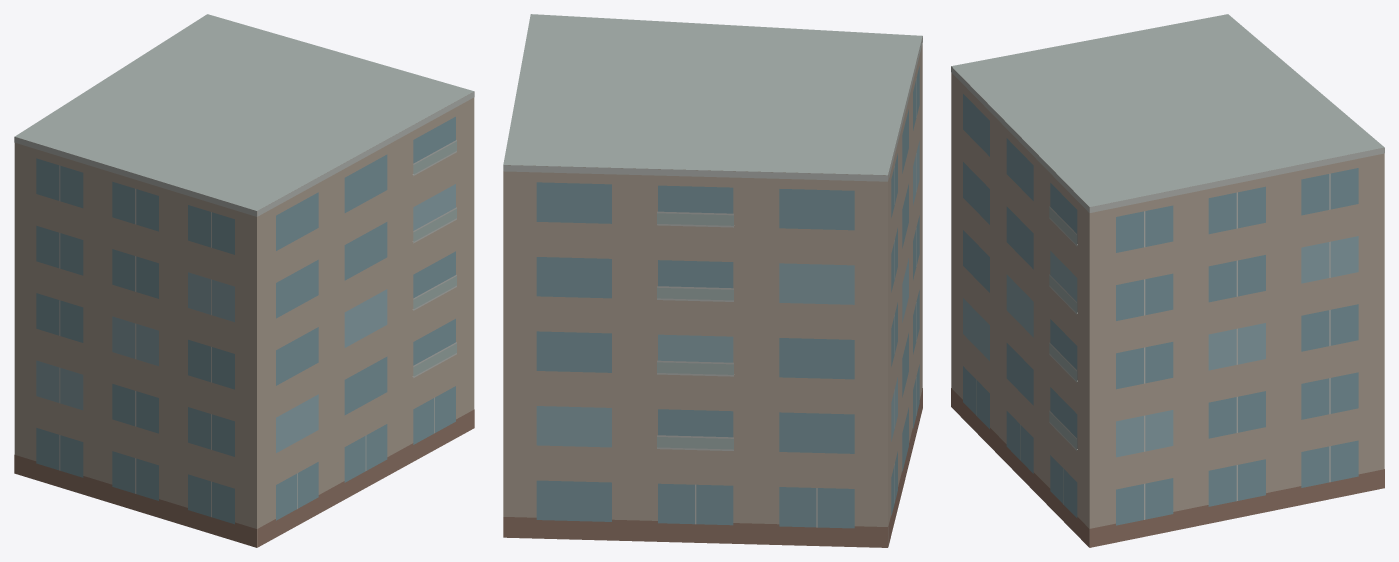
The model's file is survey-upis-32614366.glb.
3 views of the same model, side by side, from view 1: azimuth 30°, elevation 25°; view 2: azimuth 150°, elevation 25°; view 3: azimuth 270°, elevation 25° (orthographic). The views are drawn at different scales.
Parts seen in each view (by area): view 1: survey-upis-32614366.tmp; view 2: survey-upis-32614366.tmp; view 3: survey-upis-32614366.tmp.
Boxes of the visible parts, x1,y1,x2,y2 form: survey-upis-32614366.tmp: [14, 14, 474, 547]; survey-upis-32614366.tmp: [503, 14, 922, 547]; survey-upis-32614366.tmp: [951, 14, 1384, 547].
Bounding box in the file's own units: 16.92 × 13.9 × 16.04.
